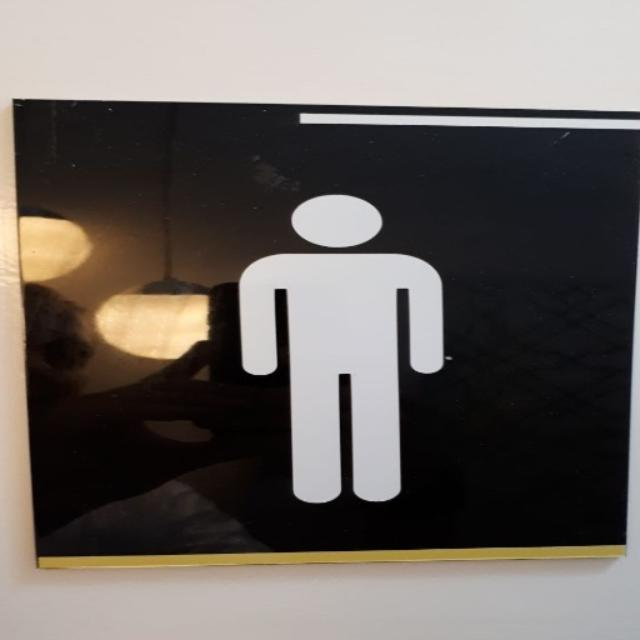mens_restroom: (14, 99, 639, 566)
